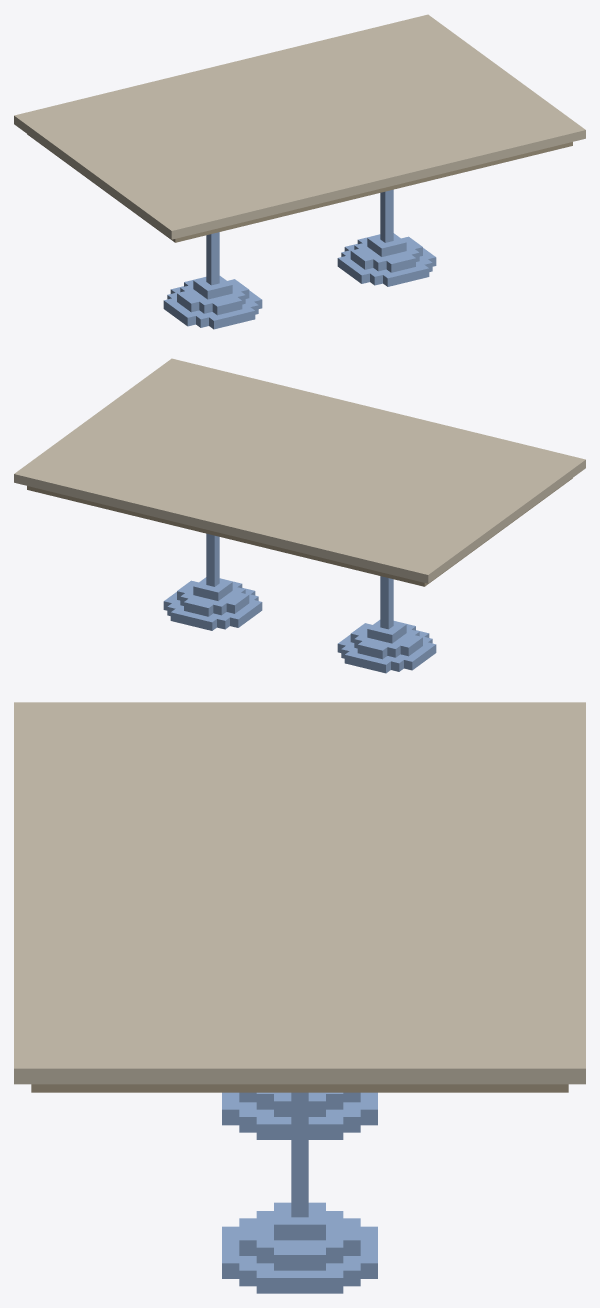
File: cafe-table.obj
The picture shows the model from 3 angles, top to bottom: view 1: azimuth 30°, elevation 25°; view 2: azimuth 150°, elevation 25°; view 3: azimuth 270°, elevation 25°; orthographic projection. The views are drawn at different scales.
Size of the model in its own units: 5 by 1.9 by 3.3.
Materials: 1 (1 with a texture image).
